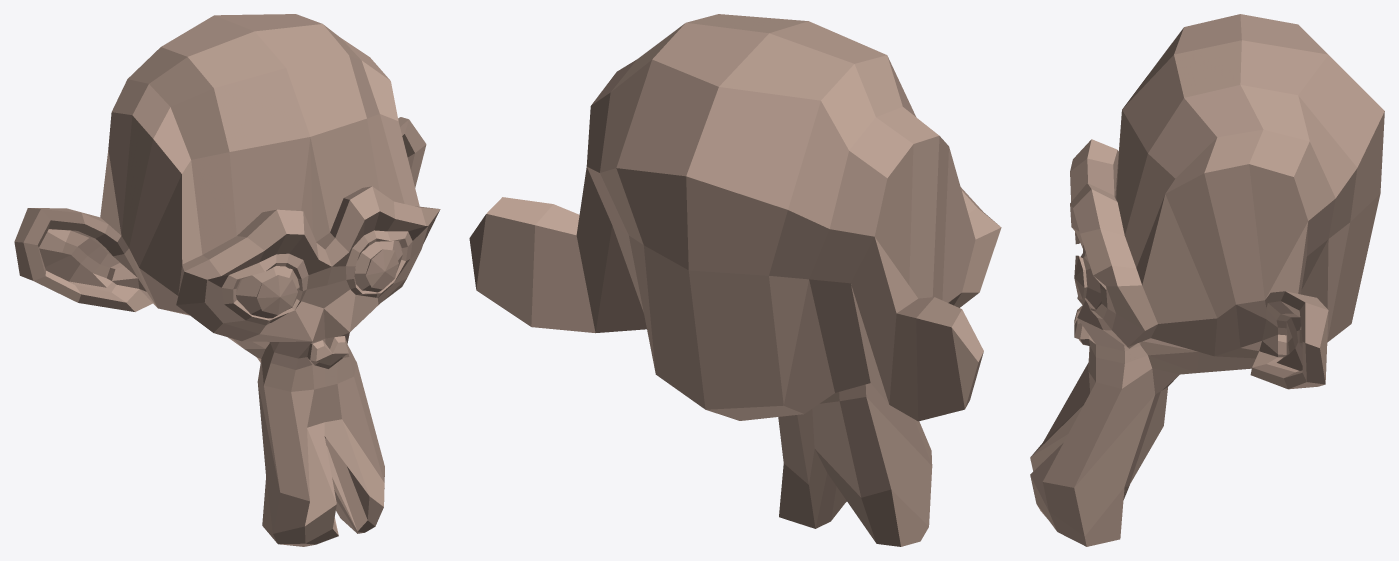
3 views of the same model, side by side, from view 1: azimuth 30°, elevation 25°; view 2: azimuth 150°, elevation 25°; view 3: azimuth 270°, elevation 25° (orthographic). The views are drawn at different scales.
Parts seen in each view (by area): view 1: t60; view 2: t60; view 3: t60.
Part boxes in pixels (x1,y1,x2,y2): t60: (14, 14, 440, 546); t60: (469, 14, 1001, 546); t60: (1030, 14, 1384, 546).
Bounding box in the file's own units: 478 × 508 × 336.
